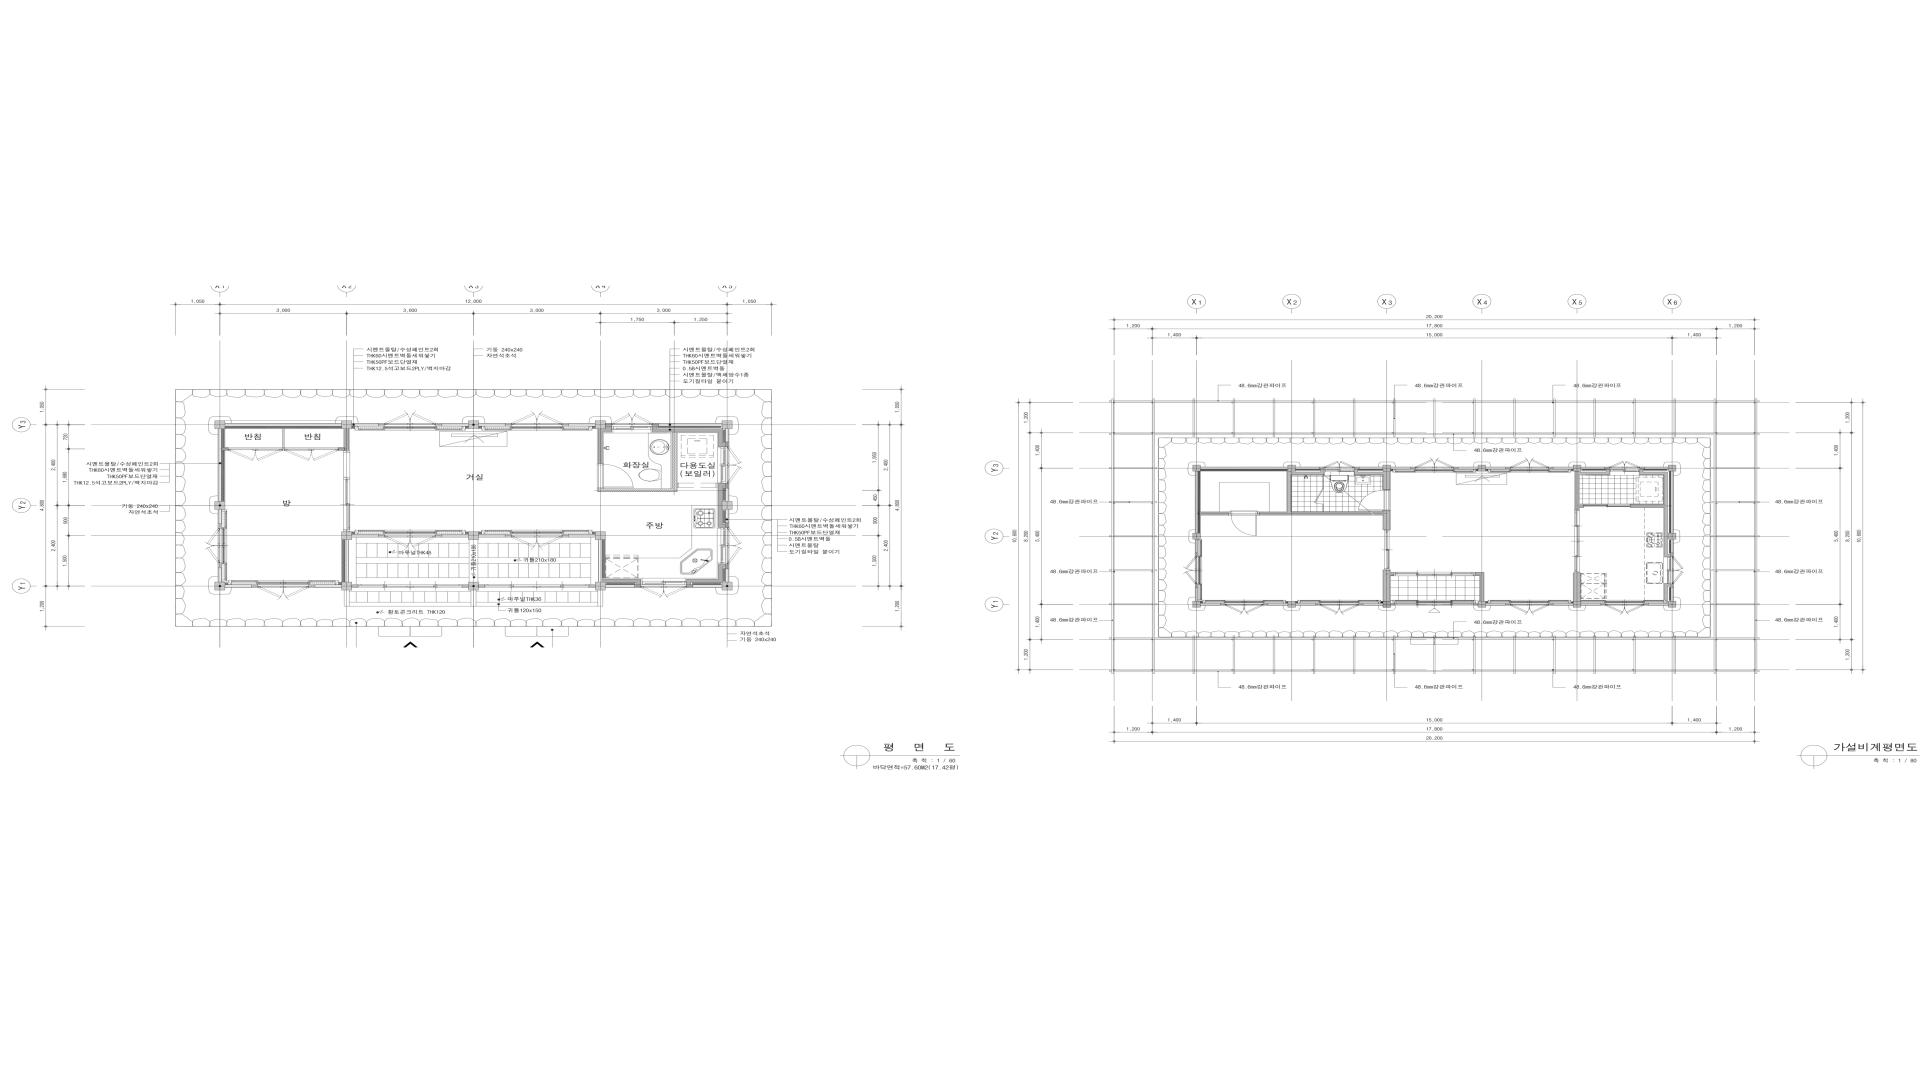door: (597, 464, 633, 489), (1228, 512, 1259, 536), (1358, 490, 1390, 511), (344, 477, 350, 532), (1393, 572, 1475, 576), (1575, 510, 1580, 573), (677, 483, 717, 488), (1384, 530, 1389, 570), (1314, 489, 1323, 504), (1583, 505, 1631, 507)
wall: (1259, 511, 1390, 530), (1287, 469, 1324, 512), (1575, 469, 1609, 510), (1640, 469, 1668, 505), (1354, 469, 1390, 490), (225, 421, 342, 426), (469, 540, 478, 582), (1664, 505, 1671, 557), (718, 483, 725, 528), (672, 432, 677, 492), (1573, 573, 1581, 608), (1384, 570, 1393, 601), (1475, 573, 1484, 601), (602, 579, 641, 585), (597, 489, 672, 492), (218, 429, 221, 501), (657, 429, 723, 432), (1664, 584, 1674, 603), (659, 423, 722, 426), (1195, 471, 1198, 533), (687, 579, 718, 585), (343, 451, 350, 477), (1201, 467, 1288, 469), (598, 432, 603, 464), (718, 564, 725, 583), (599, 540, 602, 582), (345, 540, 348, 582), (1671, 471, 1673, 533), (718, 432, 725, 447), (722, 501, 732, 510), (215, 501, 225, 510), (345, 429, 349, 451), (468, 421, 479, 429), (595, 421, 606, 429), (595, 582, 606, 590), (595, 532, 606, 540), (468, 582, 479, 590), (1200, 512, 1229, 515), (598, 426, 612, 432), (315, 585, 342, 588), (225, 585, 252, 588), (215, 421, 225, 429), (342, 421, 352, 429), (722, 421, 732, 429), (722, 582, 732, 590), (469, 532, 479, 540), (342, 532, 352, 540), (342, 582, 352, 590), (215, 582, 225, 590), (442, 423, 468, 426), (479, 423, 505, 426), (569, 423, 595, 426), (1631, 505, 1664, 507), (1363, 603, 1383, 606), (1296, 603, 1316, 606), (1268, 603, 1288, 606), (1200, 603, 1220, 606), (1581, 603, 1601, 606), (1486, 603, 1506, 606), (1553, 603, 1573, 606), (693, 585, 722, 587), (606, 585, 635, 587), (1649, 603, 1668, 606), (218, 568, 222, 582), (1383, 601, 1391, 608), (1288, 601, 1296, 608), (1193, 533, 1201, 540), (1668, 601, 1676, 608), (1478, 601, 1486, 608), (352, 424, 379, 426), (352, 535, 379, 537), (442, 535, 469, 537), (479, 535, 505, 537), (569, 535, 595, 537), (725, 429, 729, 442), (725, 488, 729, 501), (1193, 601, 1200, 608), (1193, 465, 1201, 471), (1288, 465, 1296, 471), (1383, 465, 1391, 471), (1359, 467, 1383, 469), (1478, 465, 1486, 471), (1573, 465, 1581, 471), (1581, 467, 1605, 469), (1668, 465, 1676, 471), (1668, 533, 1676, 539), (1296, 467, 1319, 469), (1645, 467, 1668, 469), (218, 510, 221, 524), (1195, 539, 1198, 553), (1671, 539, 1674, 553), (1391, 467, 1411, 469), (1458, 467, 1478, 469), (1486, 467, 1506, 469), (1553, 467, 1573, 469), (1195, 588, 1198, 601), (1671, 588, 1674, 601), (726, 510, 729, 523), (726, 569, 729, 582), (652, 426, 657, 432), (338, 447, 345, 451), (222, 447, 228, 451), (563, 534, 569, 538), (725, 483, 729, 489), (251, 585, 258, 588), (505, 534, 512, 537), (562, 423, 569, 426), (505, 423, 512, 426), (652, 423, 659, 426), (218, 563, 222, 568), (725, 442, 729, 447), (725, 523, 729, 528), (725, 564, 729, 569), (379, 534, 385, 537), (436, 534, 442, 537), (606, 423, 612, 426), (436, 423, 442, 426), (687, 585, 693, 588), (635, 585, 641, 588), (589, 585, 595, 588), (479, 585, 485, 588), (462, 585, 468, 588), (352, 585, 358, 588), (309, 585, 315, 588), (1322, 504, 1324, 512), (218, 524, 221, 529), (1358, 603, 1363, 606), (1263, 603, 1268, 606), (1220, 603, 1225, 606), (1644, 603, 1649, 606), (1601, 603, 1606, 606), (1548, 603, 1553, 606), (1506, 603, 1511, 606), (1322, 475, 1323, 489), (1391, 603, 1395, 606), (1316, 603, 1320, 606), (1195, 584, 1198, 588), (1195, 553, 1198, 557), (1671, 553, 1674, 557), (1474, 603, 1478, 606), (1319, 467, 1324, 469), (1354, 467, 1359, 469), (1453, 467, 1458, 469), (1506, 467, 1511, 469), (1548, 467, 1553, 469), (1640, 467, 1645, 469), (1411, 467, 1415, 469), (1605, 467, 1609, 469)
window: (258, 585, 309, 599), (385, 534, 436, 548), (512, 534, 563, 547), (385, 413, 436, 426), (512, 413, 562, 426), (641, 585, 687, 597), (725, 528, 740, 564), (725, 447, 740, 483), (1393, 600, 1476, 606), (612, 414, 652, 426), (207, 529, 221, 563), (228, 581, 339, 585), (355, 426, 465, 430), (482, 426, 592, 430), (482, 530, 592, 534), (355, 530, 465, 534), (221, 510, 227, 582), (1510, 459, 1549, 468), (1415, 459, 1453, 468), (1606, 604, 1644, 613), (1320, 604, 1358, 613), (1225, 604, 1263, 613), (1511, 604, 1548, 613), (1488, 600, 1571, 604), (1672, 557, 1684, 584), (1185, 557, 1197, 584), (641, 578, 687, 585), (358, 585, 462, 588), (485, 585, 589, 588), (717, 528, 725, 564), (612, 426, 652, 433), (1581, 600, 1666, 603), (718, 447, 725, 483), (1393, 469, 1476, 472), (1488, 469, 1571, 472), (1298, 600, 1381, 603), (1203, 600, 1286, 603), (1198, 539, 1202, 601), (1609, 461, 1640, 468), (1324, 461, 1354, 468), (1609, 469, 1640, 472), (1324, 469, 1354, 472), (1668, 557, 1671, 584)
